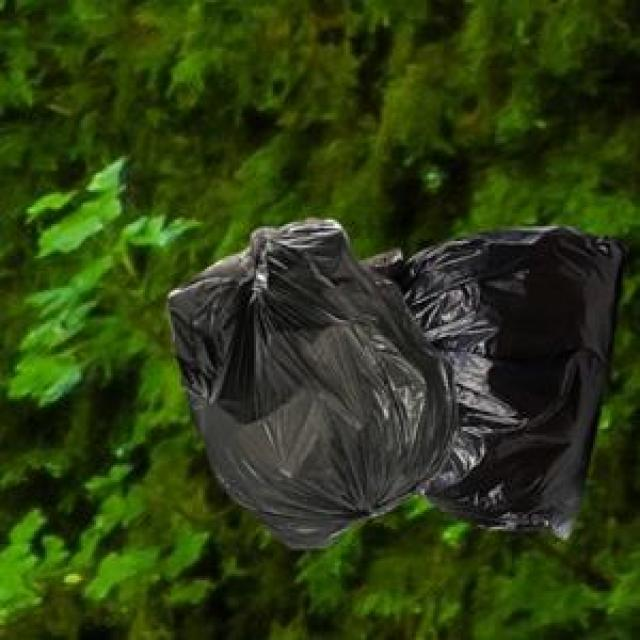Vinyl: (172, 219, 624, 548)
